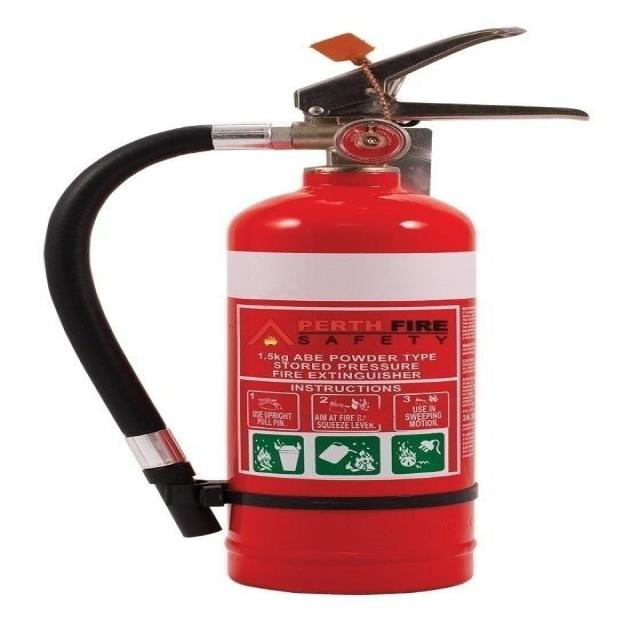fire_extinguisher: (36, 21, 591, 597)
